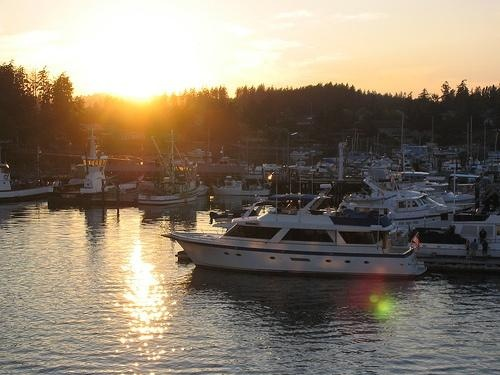boat: (160, 207, 436, 284), (341, 187, 465, 230), (138, 129, 203, 208), (1, 166, 55, 200), (213, 176, 277, 199)
